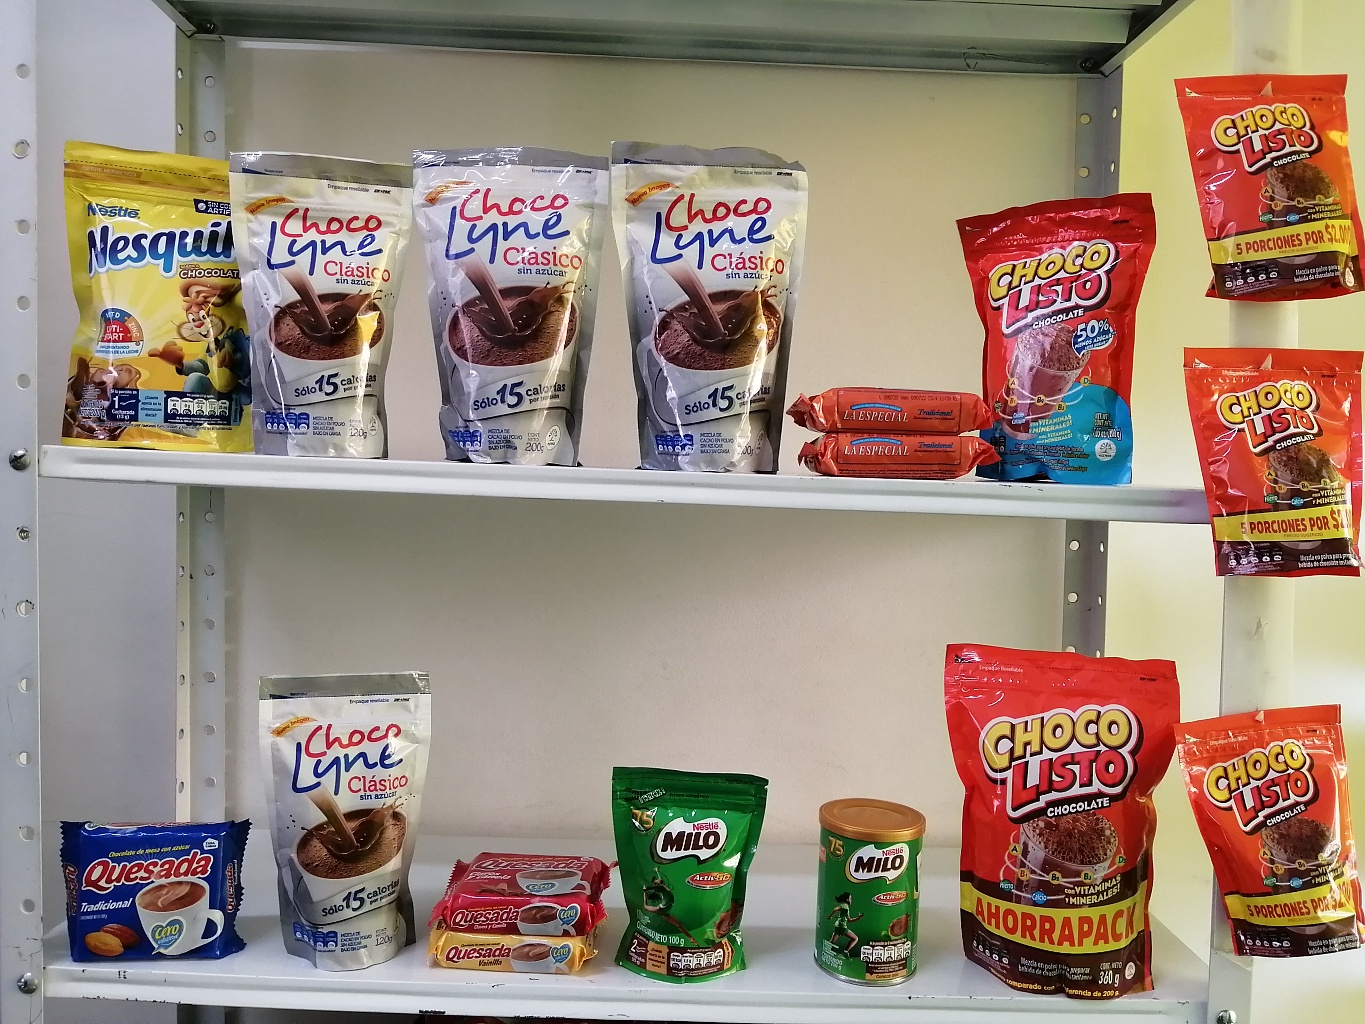COL0170103DYP36000: (936, 629, 1189, 1005)
COL0170104DYP20000: (968, 190, 1168, 487)
COL0170203DYP10000: (607, 760, 773, 986)
COL0170203LAT20000: (808, 791, 932, 985)
COL0170303DYP20000: (59, 139, 253, 447)
